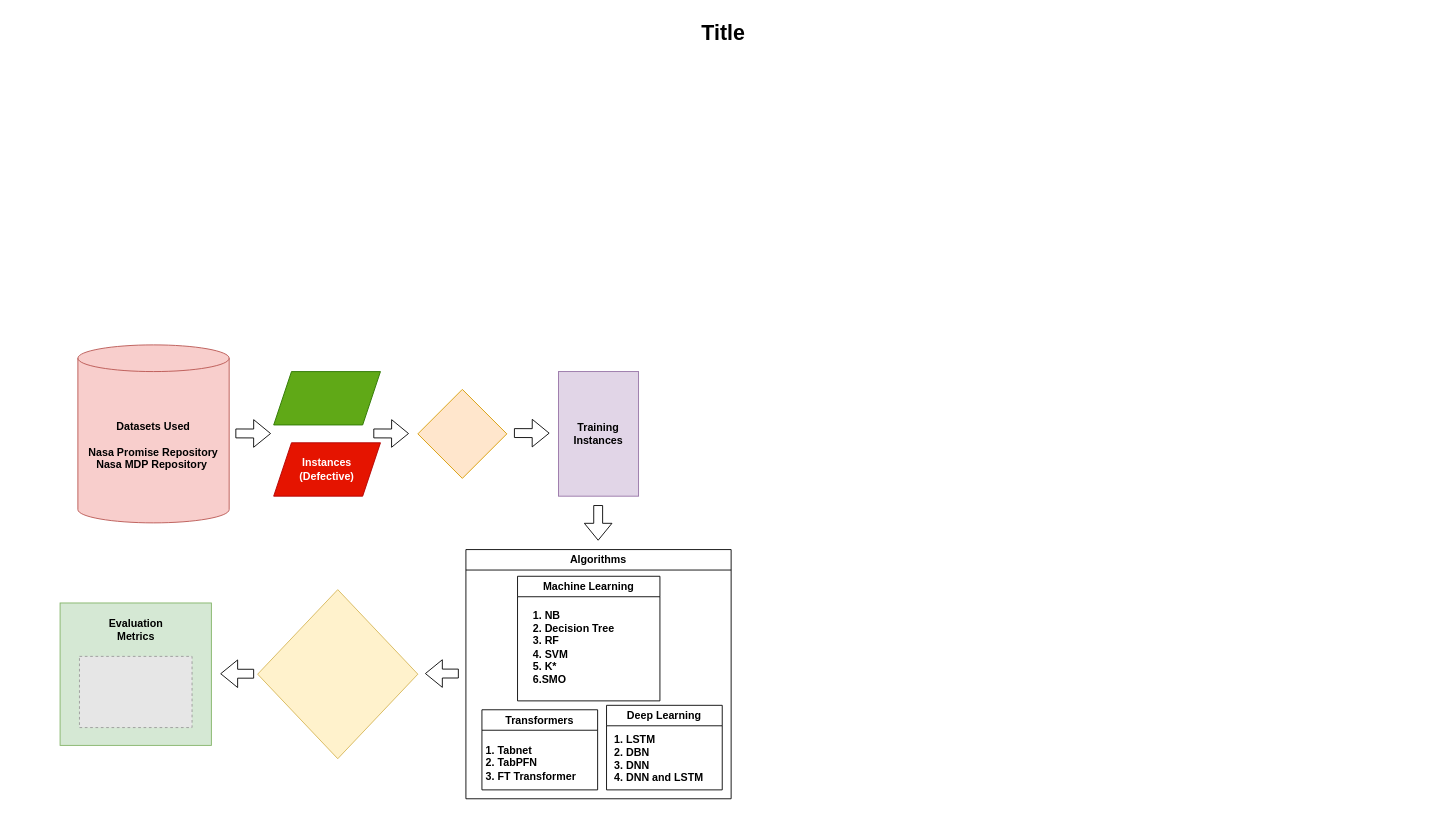
This 1445x814 diagram has some shape labels left out. Grey dashed boxes stand in for pictures. Each missing label, with the box of its shape:
Feature Extraction: (417, 388, 507, 478)
Instances (Clean): (273, 371, 380, 425)
Running Tests: 1. Wilcoxon Signed Rank 2. Scott Knott ESD: (257, 589, 418, 759)
